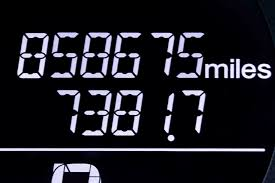Digital_Meter: (13, 25, 270, 88)
